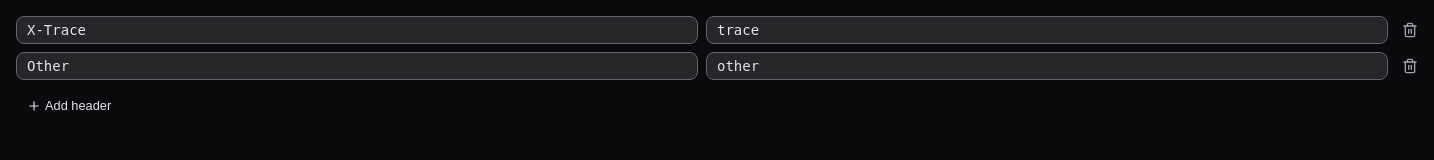
Scenario: keeps focus while editing a header name and preserves colliding rows
Later steps or results of the test are not shown.
Replace the text in the field named "Header 1 name" with "Other" at (357, 30), box left=16, top=16, right=698, bottom=44
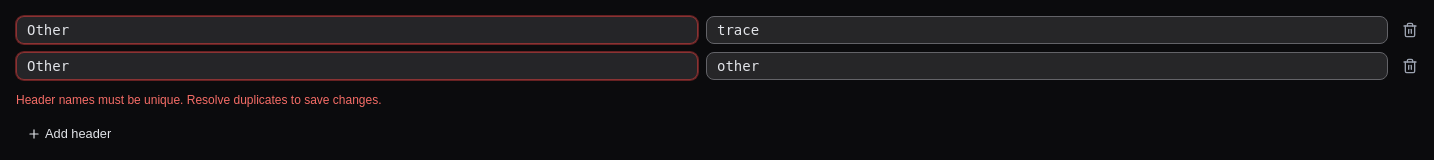
expect the number of fields is 4: met, box left=16, top=16, right=698, bottom=44; left=706, top=16, right=1388, bottom=44; left=16, top=52, right=698, bottom=80; left=706, top=52, right=1388, bottom=80
expect the message shows "unique": met, box left=16, top=93, right=382, bottom=107
